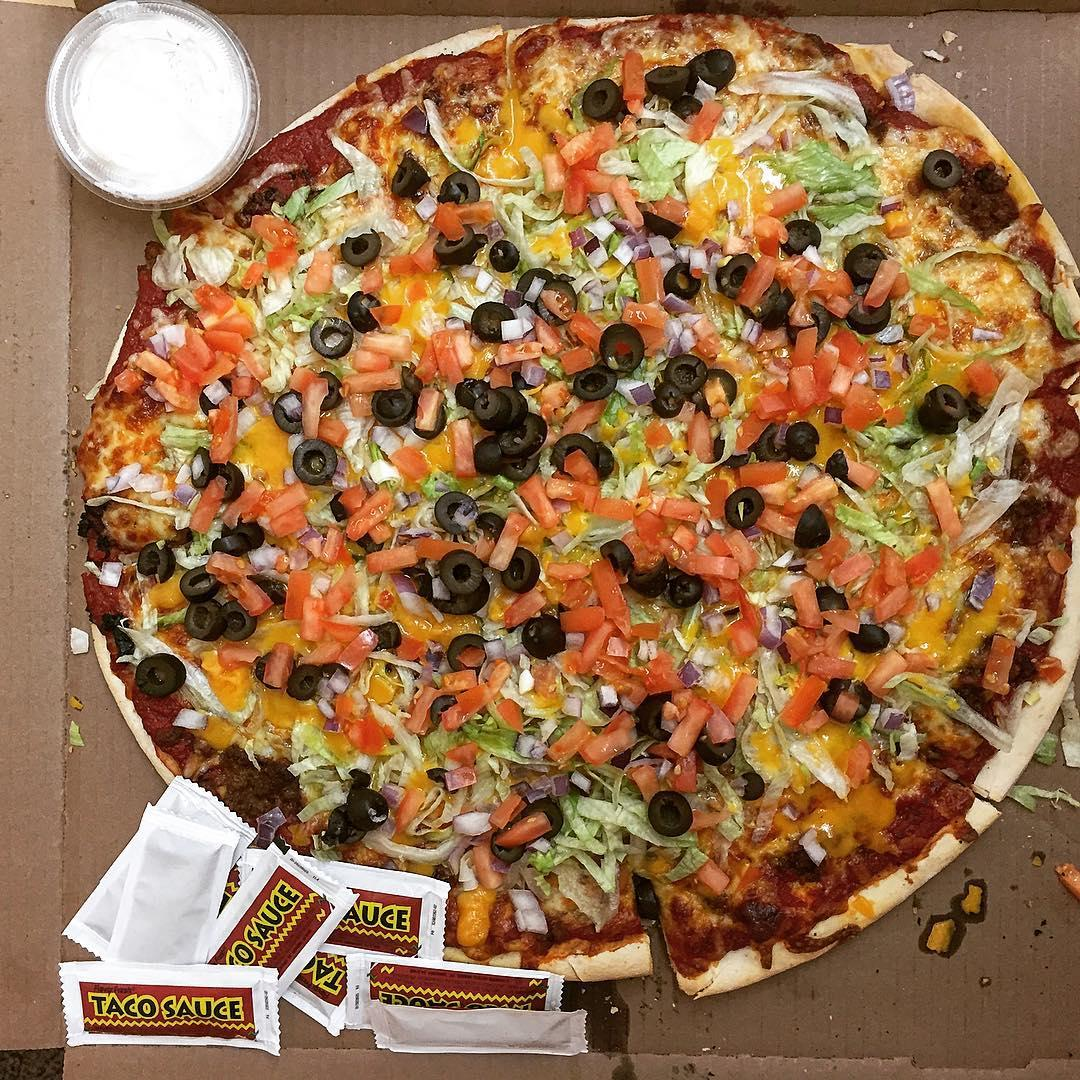Olives: (653, 347, 740, 422), (648, 48, 736, 116), (472, 414, 548, 481), (912, 379, 977, 445), (516, 264, 578, 324), (750, 410, 816, 465), (439, 548, 492, 615), (180, 562, 223, 644), (457, 376, 526, 427), (328, 786, 388, 844), (555, 426, 614, 483), (744, 280, 799, 330), (132, 652, 188, 701), (468, 299, 520, 351), (289, 659, 351, 700), (643, 788, 695, 836), (821, 673, 872, 721), (426, 222, 480, 267), (291, 437, 339, 487), (841, 287, 895, 330), (577, 73, 622, 123), (435, 488, 479, 535), (310, 313, 353, 361), (599, 322, 644, 367), (445, 632, 491, 676), (197, 377, 247, 417), (716, 250, 757, 297), (522, 613, 565, 657), (782, 212, 825, 256), (922, 144, 963, 190), (223, 598, 263, 644), (368, 385, 414, 425), (274, 387, 311, 436), (571, 367, 621, 403), (501, 544, 540, 589), (842, 241, 892, 276), (727, 485, 765, 530), (136, 539, 176, 581), (389, 156, 429, 198), (664, 257, 704, 299), (245, 569, 289, 606), (521, 800, 566, 836), (345, 290, 385, 330), (795, 502, 831, 546), (342, 225, 384, 262), (215, 524, 264, 554), (213, 460, 247, 503), (315, 367, 345, 415), (440, 169, 480, 204), (635, 695, 665, 739), (598, 539, 631, 579), (813, 580, 849, 616), (634, 558, 667, 597), (852, 621, 891, 653), (670, 569, 703, 605), (489, 828, 523, 862), (188, 446, 212, 492), (487, 234, 516, 269), (430, 696, 459, 729), (401, 359, 423, 402), (369, 623, 402, 651), (736, 771, 766, 799), (825, 449, 851, 481), (699, 741, 738, 762), (249, 650, 270, 688)
Onion: (564, 194, 652, 268), (510, 769, 592, 799), (103, 459, 166, 496), (657, 295, 700, 345), (509, 885, 550, 936), (655, 234, 716, 268), (882, 70, 921, 115), (450, 804, 494, 843), (505, 729, 551, 762), (758, 603, 789, 649), (966, 572, 995, 613), (668, 660, 707, 684), (878, 704, 905, 731), (558, 693, 586, 719), (598, 683, 622, 708)
Pizza: (74, 21, 1080, 981)
Tomatoes: (552, 561, 628, 632), (553, 125, 636, 190), (786, 333, 858, 407), (140, 323, 239, 376), (356, 332, 470, 372), (854, 555, 928, 613), (293, 574, 354, 634), (792, 610, 849, 673), (635, 503, 705, 553)
